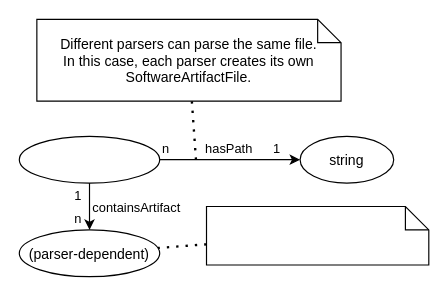
Some shapes in this 448 by 296 pixel diagram are drawn without their labels. The box of each missing label's shape, as (x1, y1, x2, y2) in pixels:
e.g. FamixClass, Enum or AnnotationType for famix parsers: (205, 205, 429, 265)
SoftwareArtifactFile: (18, 135, 160, 183)
